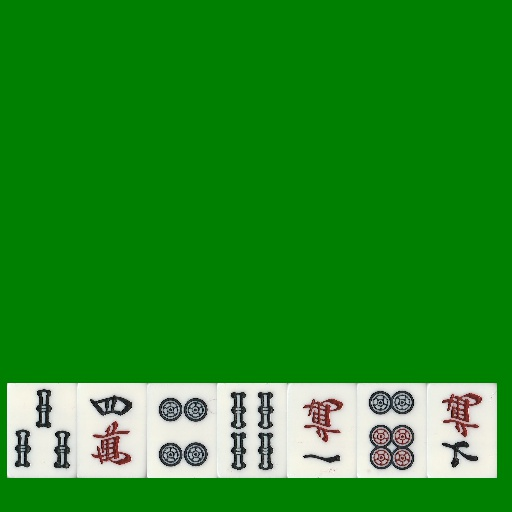1m: (287, 383, 357, 478)
3s: (7, 383, 77, 478)
4m: (77, 383, 147, 478)
4p: (147, 383, 217, 478)
4s: (217, 383, 287, 478)
6p: (357, 383, 427, 478)
7m: (427, 383, 497, 478)
